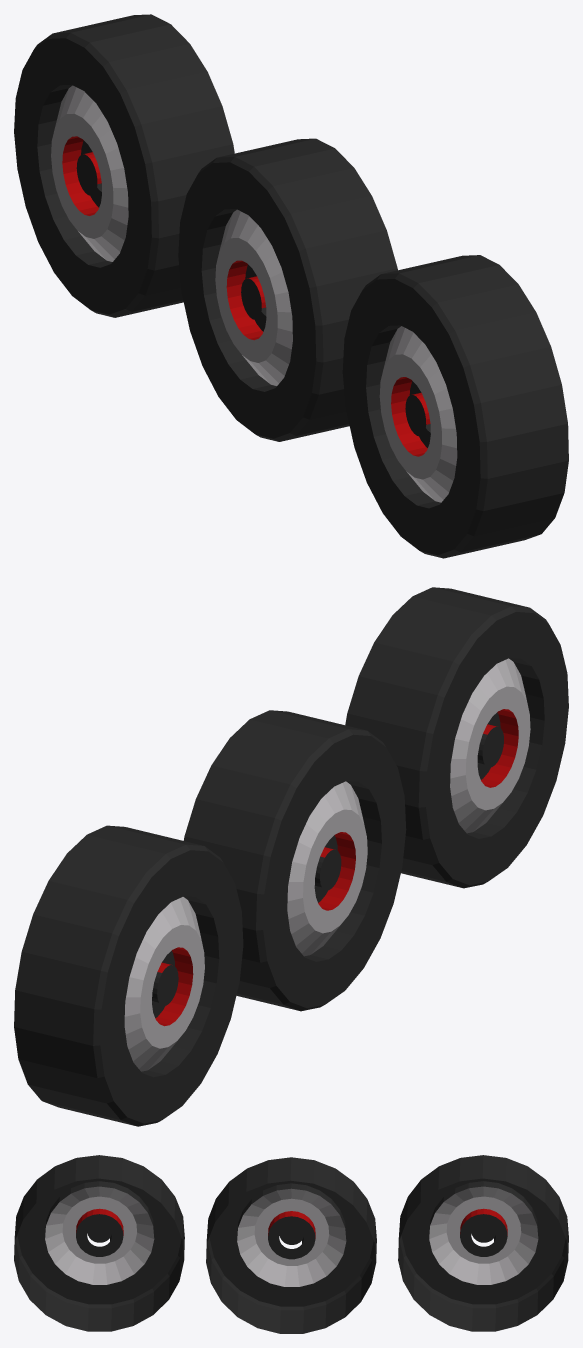
The model's file is truckWheels.gltf.
3 renders of one model, top to bottom at view 1: azimuth 30°, elevation 25°; view 2: azimuth 150°, elevation 25°; view 3: azimuth 270°, elevation 25°, orthographic. The views are drawn at different scales.
Visible parts, largest first — view 1: tyre1.002, tyre1, tyre1.001; view 2: tyre1, tyre1.002, tyre1.001; view 3: tyre1.002, tyre1, tyre1.001.
Part boxes in pixels (x1,y1,x2,y2): tyre1.002: (342,255,568,558); tyre1: (14,14,234,317); tyre1.001: (178,138,397,441); tyre1: (14,825,243,1126); tyre1.002: (345,587,568,888); tyre1.001: (183,710,406,1011); tyre1.002: (14,1155,184,1331); tyre1: (398,1155,568,1331); tyre1.001: (206,1157,376,1333).
Size of the model in its own units: 0.4014 by 1.15 by 3.68.
